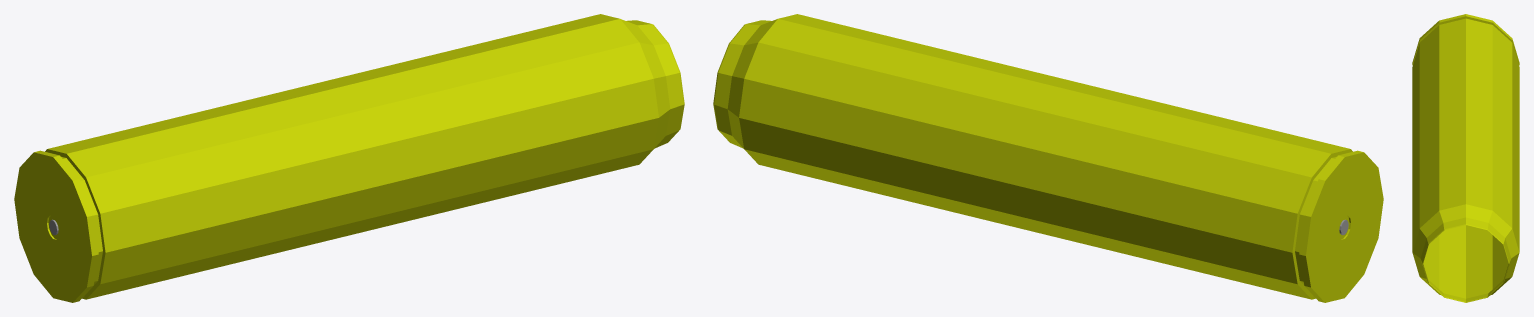
The model's file is sniperRifleShell.fbx.
3 renders of one model, left to right at view 1: azimuth 30°, elevation 25°; view 2: azimuth 150°, elevation 25°; view 3: azimuth 270°, elevation 25°, orthographic. The views are drawn at different scales.
Parts seen in each view (by area): view 1: Cylinder; view 2: Cylinder; view 3: Cylinder.
Part boxes in pixels (box(x1,y1,x2,y2)): Cylinder: box(14, 14, 684, 302); Cylinder: box(713, 14, 1383, 302); Cylinder: box(1412, 14, 1519, 302).
Size of the model in its own units: 26.72 by 6 by 6.
